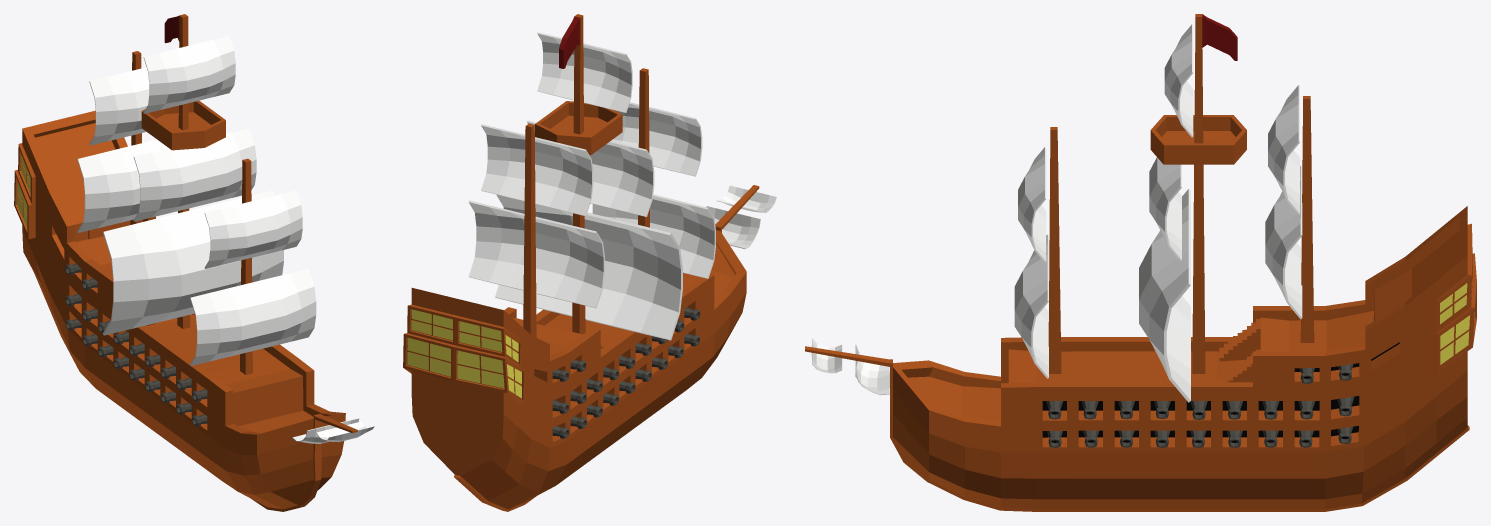
File: pirate ship.fbx
The picture shows the model from 3 angles, left to right: view 1: azimuth 30°, elevation 25°; view 2: azimuth 150°, elevation 25°; view 3: azimuth 270°, elevation 25°; orthographic projection. The views are drawn at different scales.
Parts seen in each view (by area): view 1: pirat skib; view 2: pirat skib; view 3: pirat skib.
Boxes of the visible parts, x1,y1,x2,y2 form: pirat skib: (14,14,374,511); pirat skib: (403,14,776,511); pirat skib: (805,14,1476,511).
Size of the model in its own units: 383 by 925 by 1139.
